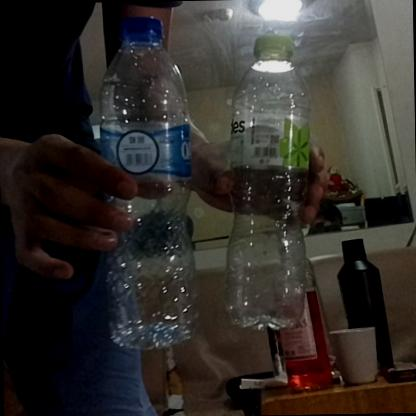plastic_bottles: (96, 12, 200, 348), (218, 37, 310, 332)
